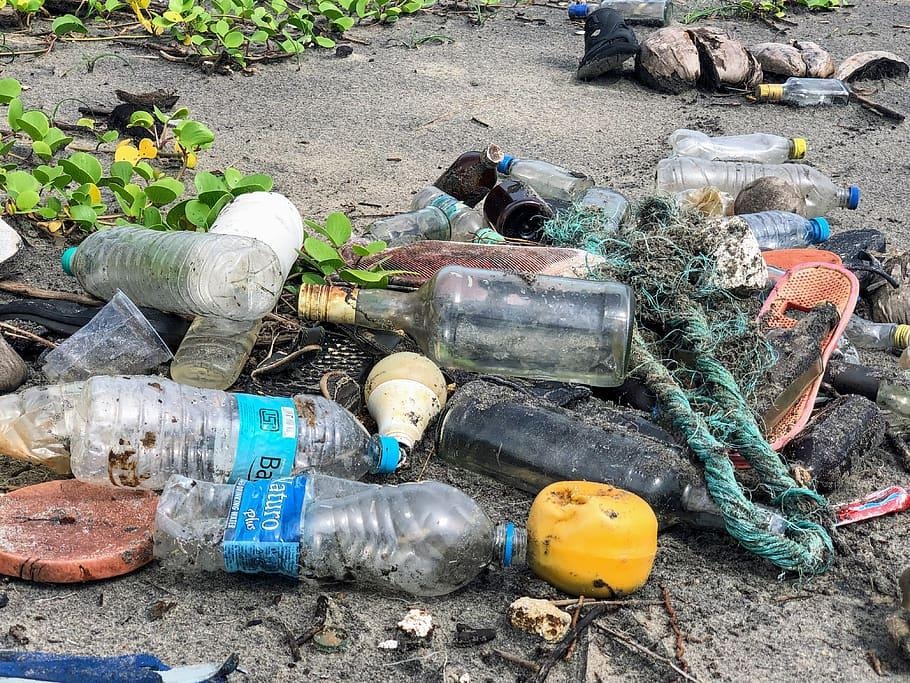bottle: (403, 166, 508, 259), (141, 207, 205, 335), (495, 0, 590, 70), (0, 431, 229, 453), (656, 0, 811, 30), (734, 20, 778, 89), (160, 534, 533, 540)
